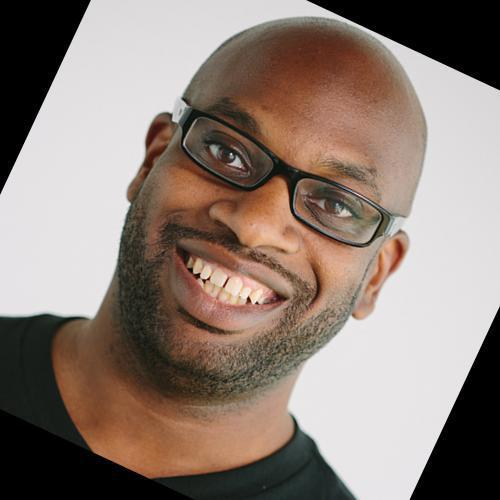Sober: (166, 62, 368, 355)
